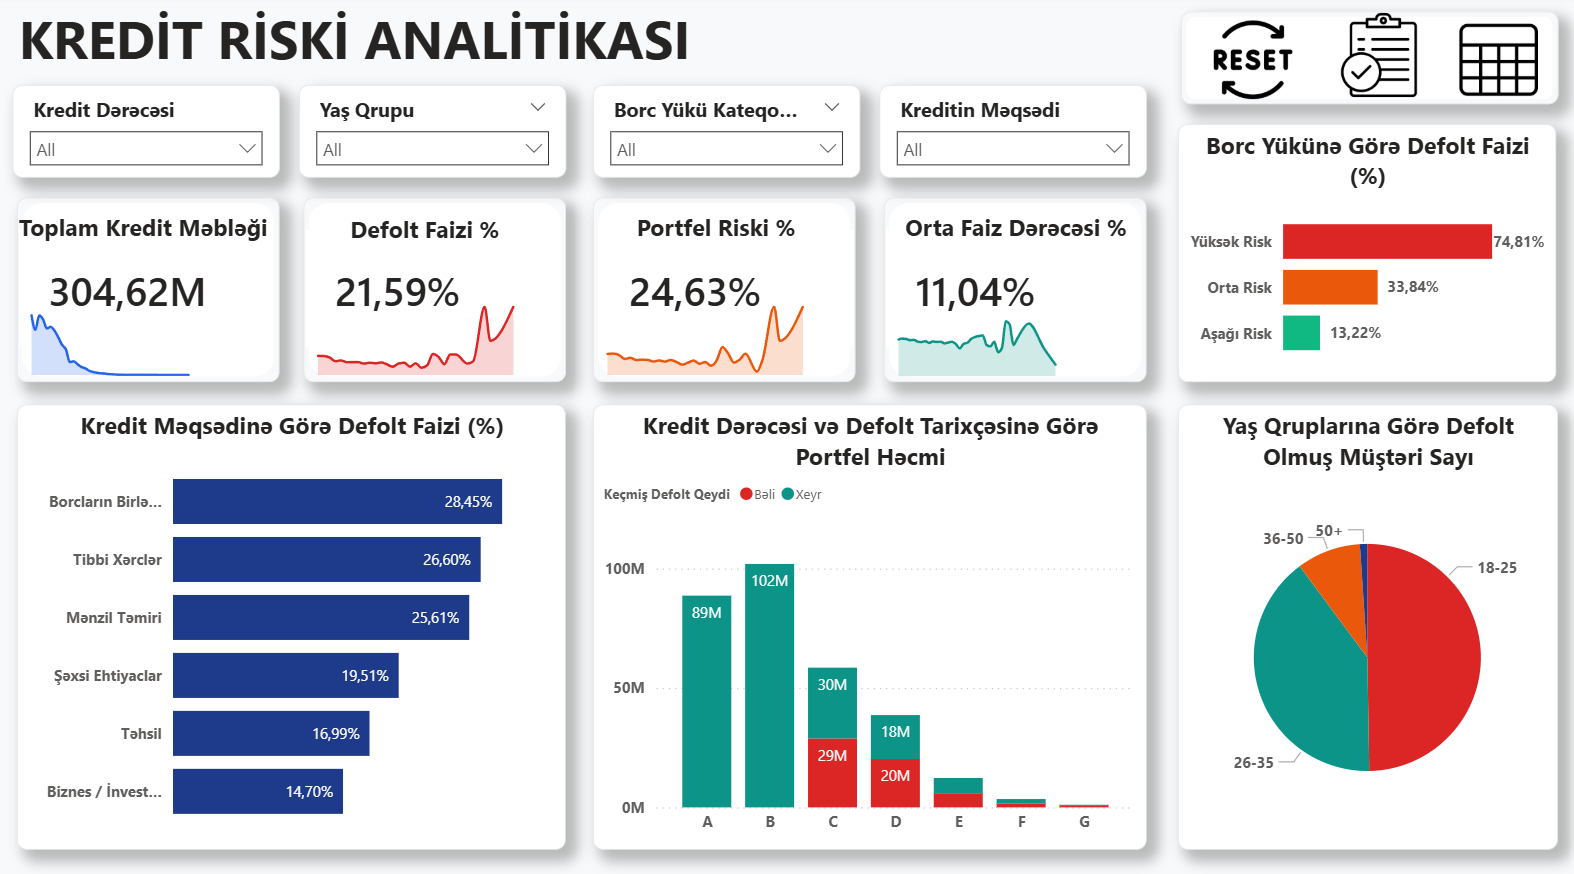

The page's visual inventory and layout, read from the dashboard file:
{"tool":"powerbi","page":{"name":"Page 1","canvas":[1280,720],"ordinal":0},"visuals":[{"type":"shape","box":[959.8,13.7,303.8,74.9],"z":0},{"type":"shape","box":[720.2,163.1,211.5,148.6],"z":1000},{"type":"shape","box":[485.7,163.1,211.5,148.6],"z":2000},{"type":"shape","box":[252.5,163.1,211.5,148.6],"z":3000},{"type":"shape","box":[21.7,163.1,211.5,148.6],"z":4000},{"type":"slicer","fields":{"Values":["cleaned_credit_risk_dataset.loan_grade"]},"box":[17.9,72.8,215.2,74.9],"z":5000},{"type":"slicer","fields":{"Values":["cleaned_credit_risk_dataset.age_group"]},"box":[248.9,72.8,215.2,74.9],"z":6000},{"type":"slicer","fields":{"Values":["cleaned_credit_risk_dataset.loan_risk_tier"]},"box":[485.2,72.8,215.2,74.9],"z":7000},{"type":"slicer","fields":{"Values":["cleaned_credit_risk_dataset.loan_intent"]},"box":[716.1,72.8,215.2,74.9],"z":8000},{"type":"cardVisual","fields":{"Data":["_Measures (2).Total Loan Amount"]},"box":[18.1,183.7,215.1,105.1],"z":9000},{"type":"cardVisual","fields":{"Data":["_Measures (2).Default Rate %"]},"box":[248.9,183.7,215.1,105.1],"z":10000},{"type":"cardVisual","fields":{"Data":["_Measures (2).Portfolio Risk %"]},"box":[485.7,183.7,215.1,105.1],"z":11000},{"type":"cardVisual","fields":{"Data":["_Measures.Orta Faiz Dərəcəsi %"]},"box":[716.5,183.7,215.1,105.1],"z":12000},{"type":"textbox","box":[17.9,0,556.9,72.8],"z":13000},{"type":"areaChart","fields":{"Y":["_Measures.Ümumi Kredit Məbləği"],"Category":["cleaned_credit_risk_dataset.İş Stajı (İl)"]},"box":[18.1,236.8,215.1,74.9],"z":16000},{"type":"areaChart","fields":{"Y":["_Measures.Defolt Faizi %"],"Category":["cleaned_credit_risk_dataset.İş Stajı (İl)"]},"box":[248.9,236.8,215.1,74.9],"z":17000},{"type":"areaChart","fields":{"Y":["_Measures.Məbləğ üzrə Portfel Riski %"],"Category":["cleaned_credit_risk_dataset.İş Stajı (İl)"]},"box":[482.1,236.8,215.1,74.9],"z":18000},{"type":"areaChart","fields":{"Y":["_Measures.Orta Faiz Dərəcəsi %"],"Category":["cleaned_credit_risk_dataset.İş Stajı (İl)"]},"box":[716.5,236.8,215.1,74.9],"z":19000},{"type":"textbox","box":[18.1,169.2,223.5,38.7],"z":20000},{"type":"textbox","box":[285.2,170.4,141.4,37.5],"z":21000},{"type":"textbox","box":[515.9,169.2,147.4,37.5],"z":22000},{"type":"textbox","box":[732.2,169.2,199.4,37.5],"z":23000},{"type":"clusteredBarChart","title":"Borc Yükünə Görə Defolt Faizi (%)","fields":{"Category":["cleaned_credit_risk_dataset.Borc Yükü Kateqoriyası"],"Y":["_Measures.Defolt Faizi %"]},"box":[957,103.9,304.5,207.8],"z":24000},{"type":"image","box":[1169.7,20,91.8,63.3],"z":25000},{"type":"image","box":[1080.2,13.3,77.3,70.1],"z":26000},{"type":"pivotTable","fields":{"Rows":["cleaned_credit_risk_dataset.Mənzil Statusu","cleaned_credit_risk_dataset.Kredit Dərəcəsi","cleaned_credit_risk_dataset.Kreditin Məqsədi"],"Values":["_Measures.Defolt Faizi %","_Measures.Ümumi Kredit Məbləği","_Measures.Ümumi Müştəri Sayı"],"Columns":["cleaned_credit_risk_dataset.Yaş Qrupu"]},"box":[23,329.9,1240.9,368.5],"z":28000},{"type":"image","box":[980.9,20,72.8,63.3],"z":28002}]}

Visuals, with their boxes in screenshot pixels (x1, y1, x2, y2), scaled from the page's 1280x720 canvas onto the 1574x874 screenshot:
shape: box=[1180, 17, 1554, 108]
shape: box=[886, 198, 1146, 378]
shape: box=[597, 198, 857, 378]
shape: box=[310, 198, 571, 378]
shape: box=[27, 198, 287, 378]
slicer - cleaned_credit_risk_dataset.loan_grade: box=[22, 88, 287, 179]
slicer - cleaned_credit_risk_dataset.age_group: box=[306, 88, 571, 179]
slicer - cleaned_credit_risk_dataset.loan_risk_tier: box=[597, 88, 861, 179]
slicer - cleaned_credit_risk_dataset.loan_intent: box=[881, 88, 1145, 179]
cardVisual - _Measures (2).Total Loan Amount: box=[22, 223, 287, 351]
cardVisual - _Measures (2).Default Rate %: box=[306, 223, 571, 351]
cardVisual - _Measures (2).Portfolio Risk %: box=[597, 223, 862, 351]
cardVisual - _Measures.Orta Faiz Dərəcəsi %: box=[881, 223, 1146, 351]
textbox: box=[22, 0, 707, 88]
areaChart - _Measures.Ümumi Kredit Məbləği x cleaned_credit_risk_dataset.İş Stajı (İl): box=[22, 287, 287, 378]
areaChart - _Measures.Defolt Faizi % x cleaned_credit_risk_dataset.İş Stajı (İl): box=[306, 287, 571, 378]
areaChart - _Measures.Məbləğ üzrə Portfel Riski % x cleaned_credit_risk_dataset.İş Stajı (İl): box=[593, 287, 857, 378]
areaChart - _Measures.Orta Faiz Dərəcəsi % x cleaned_credit_risk_dataset.İş Stajı (İl): box=[881, 287, 1146, 378]
textbox: box=[22, 205, 297, 252]
textbox: box=[351, 207, 525, 252]
textbox: box=[634, 205, 816, 251]
textbox: box=[900, 205, 1146, 251]
"Borc Yükünə Görə Defolt Faizi (%)" clusteredBarChart: box=[1177, 126, 1551, 378]
image: box=[1438, 24, 1551, 101]
image: box=[1328, 16, 1423, 101]
pivotTable - cleaned_credit_risk_dataset.Mənzil Statusu x cleaned_credit_risk_dataset.Kredit Dərəcəsi: box=[28, 400, 1554, 848]
image: box=[1206, 24, 1296, 101]
